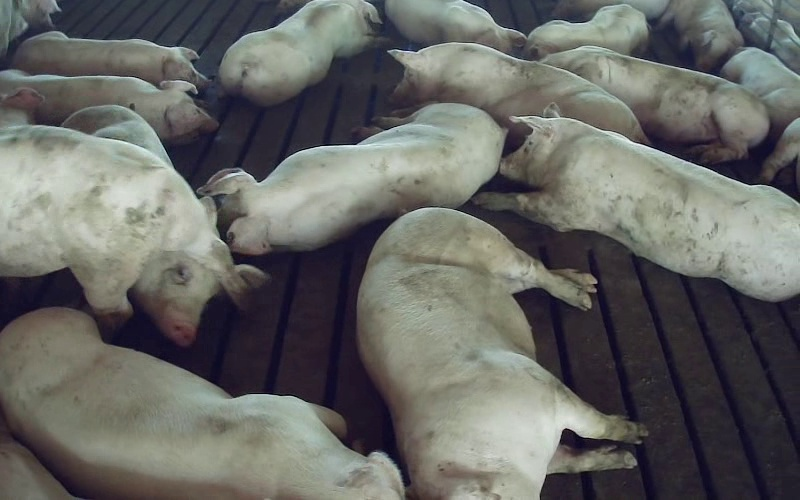pig: (359, 209, 646, 499), (475, 107, 799, 301), (198, 103, 505, 254), (389, 43, 647, 142), (12, 31, 208, 87), (720, 47, 799, 140), (385, 0, 526, 52), (525, 4, 648, 59), (657, 0, 743, 71)
